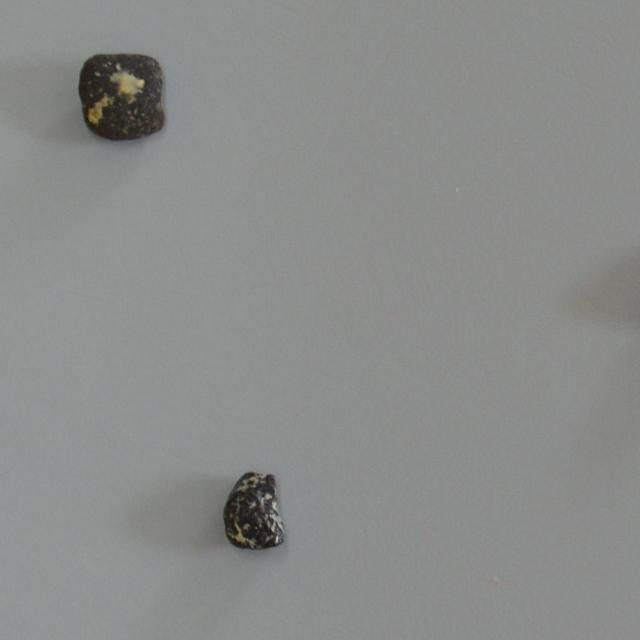cuerpos_extranos: (75, 50, 164, 140), (222, 468, 286, 550)
